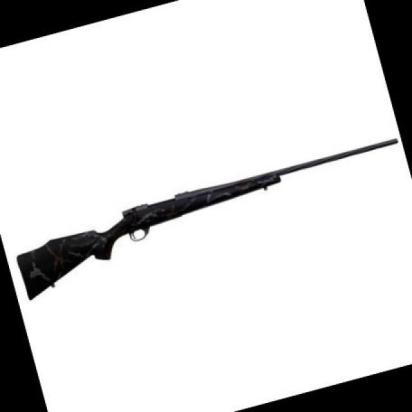Gun: (7, 127, 412, 299)
